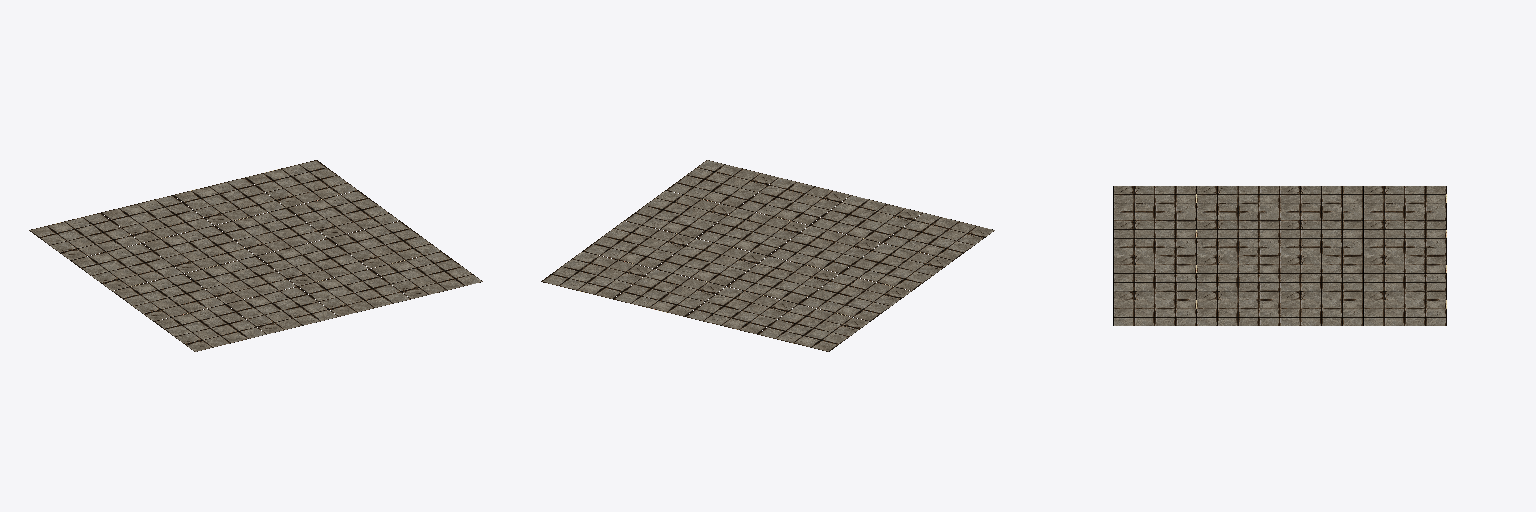
The picture shows the model from 3 angles: view 1: azimuth 30°, elevation 25°; view 2: azimuth 150°, elevation 25°; view 3: azimuth 270°, elevation 25°; orthographic projection.
Parts seen in each view (by area): view 1: mesh01; view 2: mesh01; view 3: mesh01.
Part boxes in pixels (left/top/right/bottom): mesh01: left=29, top=160, right=482, bottom=351; mesh01: left=541, top=160, right=994, bottom=351; mesh01: left=1113, top=186, right=1446, bottom=325.
Bounding box in the file's own units: 4017 × 0.0002 × 4018.
Materials: 1 (1 with a texture image).